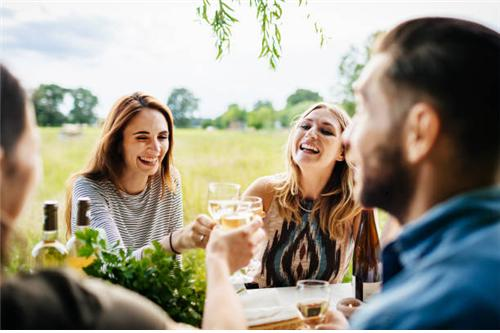alcohol: (352, 206, 383, 304), (298, 281, 328, 333), (208, 182, 239, 222), (221, 200, 251, 232), (242, 197, 264, 221)
